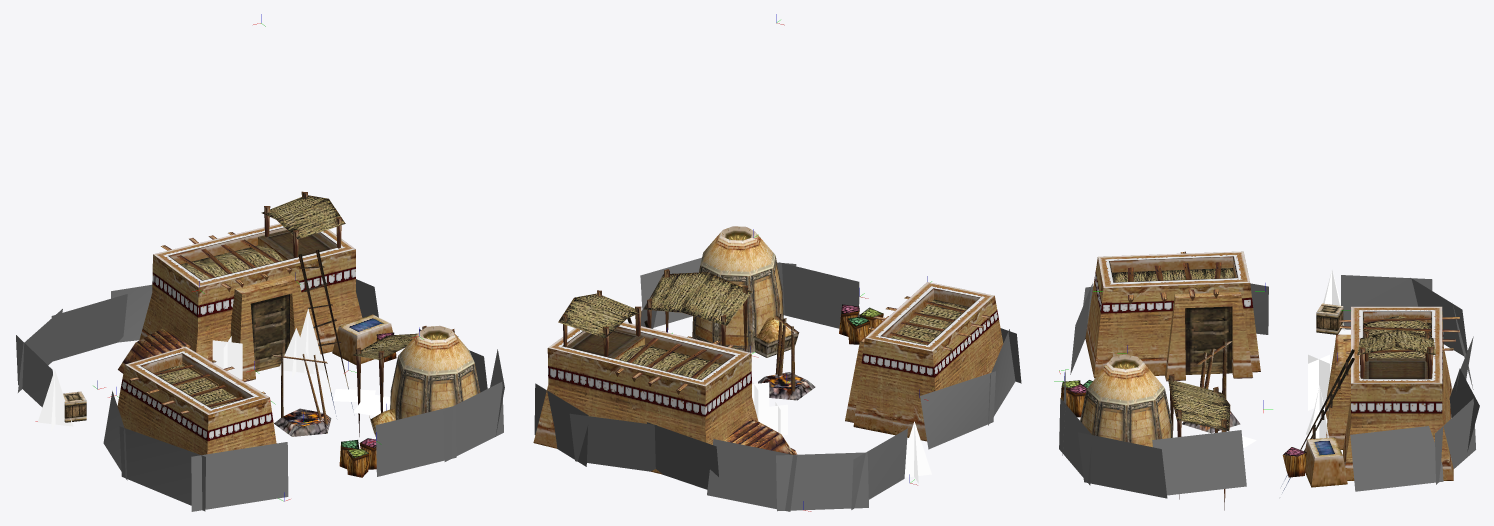
The model's file is egyptian-town-center-age1.glb.
3 renders of one model, left to right at view 1: azimuth 30°, elevation 25°; view 2: azimuth 150°, elevation 25°; view 3: azimuth 270°, elevation 25°, orthographic.
Visible parts, largest first — view 1: building e settlement age1Model; view 2: building e settlement age1Model; view 3: building e settlement age1Model.
Part boxes in pixels (box(x1,y1,x2,y2)): building e settlement age1Model: box(16, 191, 504, 511); building e settlement age1Model: box(533, 226, 1021, 511); building e settlement age1Model: box(1059, 251, 1479, 510).
Size of the model in its own units: 10.69 by 12 by 10.62.
6 materials, 5 textured.
